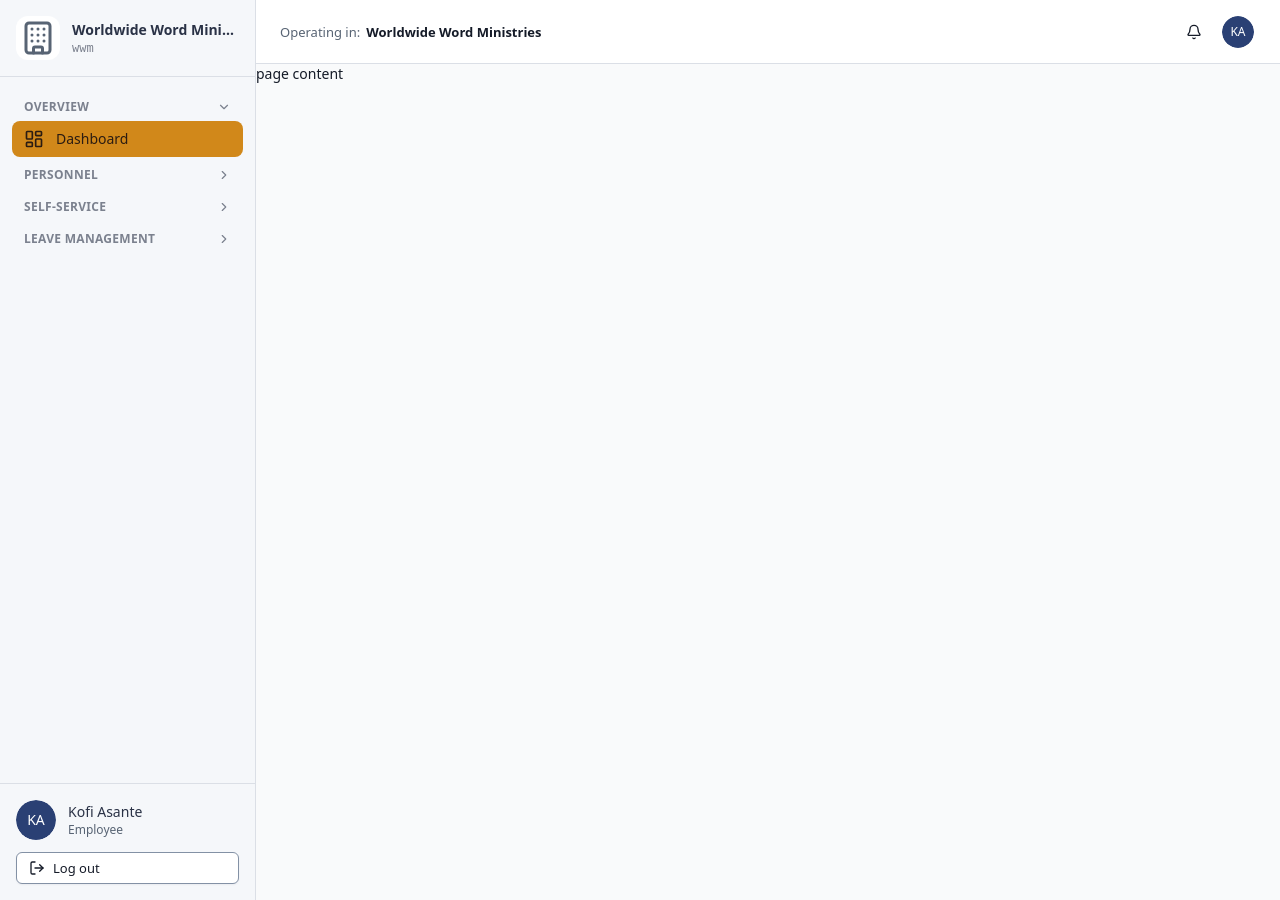
AppShell — Administration group permission gating › keeps every legitimate employee self-service entry for Kofi (no regression)
The width and height of the screenshot is (1280, 900).
Expected: the button with test id "button-nav-group-overview" is shown, [12,93,243,121]
Click the button with test id "button-nav-group-self-service" at point(128, 207), box [12,193,243,221]
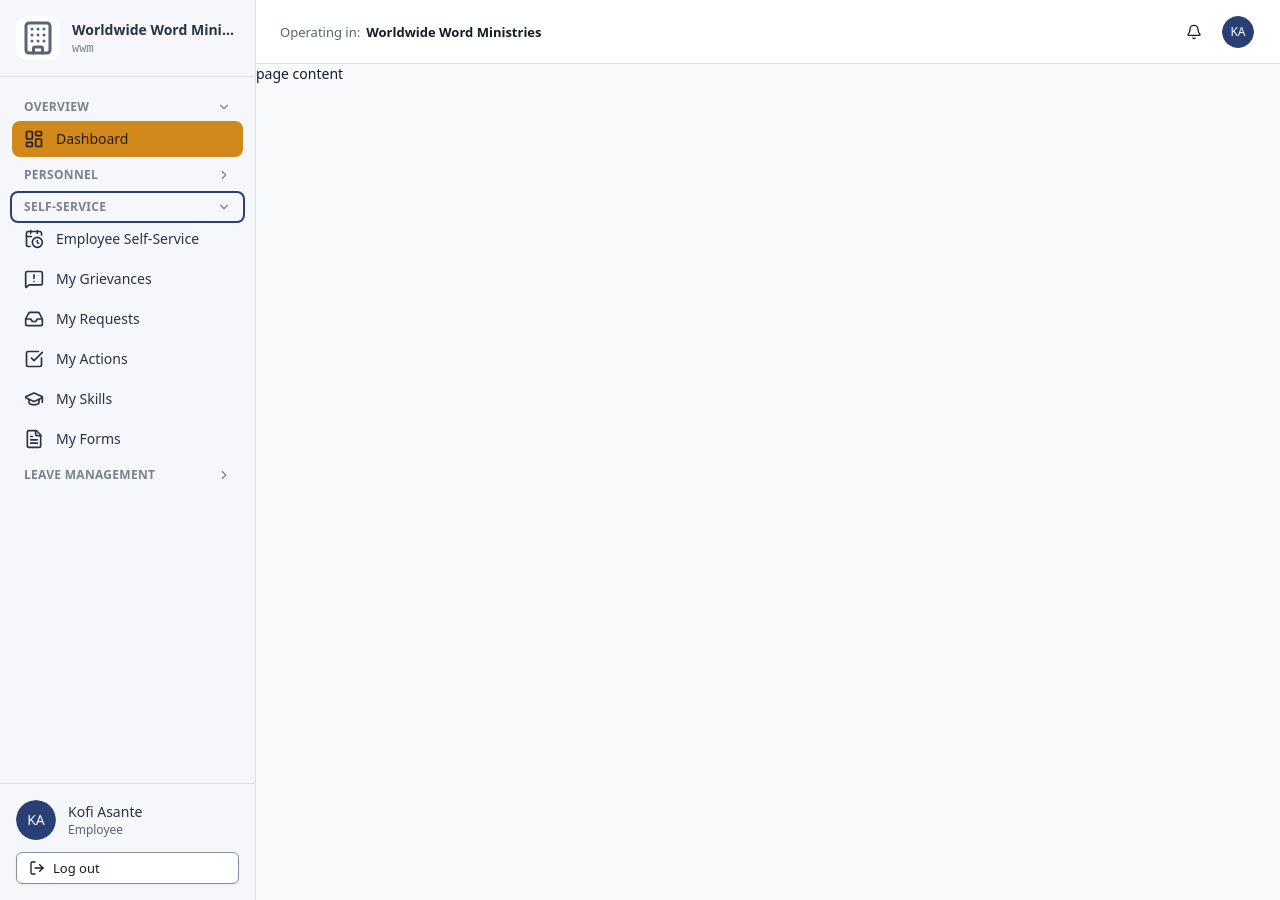
Expected: the link "Employee Self-Service" is shown, [24,229,199,249]
Expected: the link "My Requests" is shown, [24,309,140,329]
Expected: the link "My Forms" is shown, [24,429,121,449]
